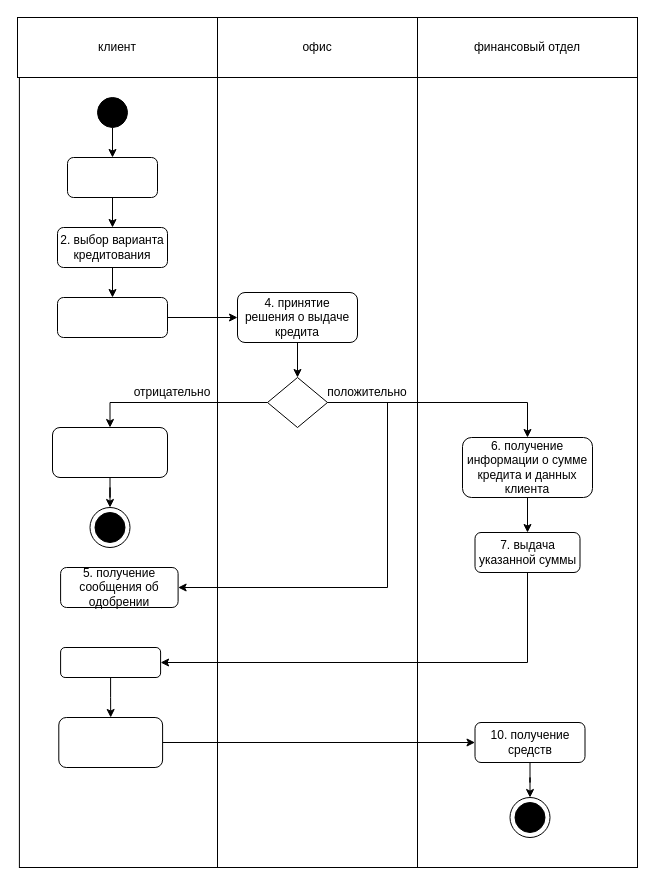
This 655x885 diagram has some shape labels left out. The shapes that lost their labels are listed below. From the top down, each one's centre as x and y in pixels, then its label:
At pixel 112 177: "1. вход в приложение".
At pixel 112 317: "3. отправка формы подачи заявки".
At pixel 110 452: "5. получение сообщения об отказе".
At pixel 110 662: "8. получение средств".
At pixel 110 742: "9. возврат с процентами, перевод средств".
